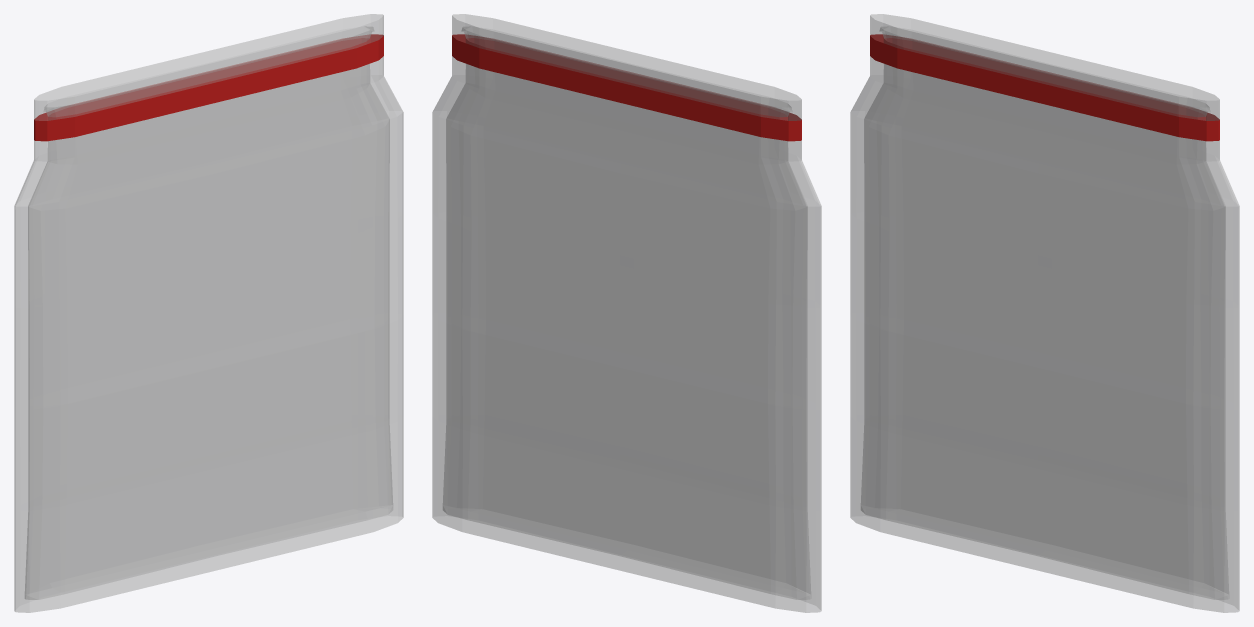
File: Empty Bag Of Drugs 1.fbx
3 renders of one model, left to right at view 1: azimuth 30°, elevation 25°; view 2: azimuth 150°, elevation 25°; view 3: azimuth 330°, elevation 25°, orthographic.
Parts seen in each view (by area): view 1: Empty Bag Of Drugs 1; view 2: Empty Bag Of Drugs 1; view 3: Empty Bag Of Drugs 1.
Boxes of the visible parts, left/top/right/bottom form: Empty Bag Of Drugs 1: left=14, top=14, right=403, bottom=612; Empty Bag Of Drugs 1: left=432, top=14, right=821, bottom=612; Empty Bag Of Drugs 1: left=850, top=14, right=1239, bottom=612.
Bounding box in the file's own units: 2 × 2.5 × 0.1452.
